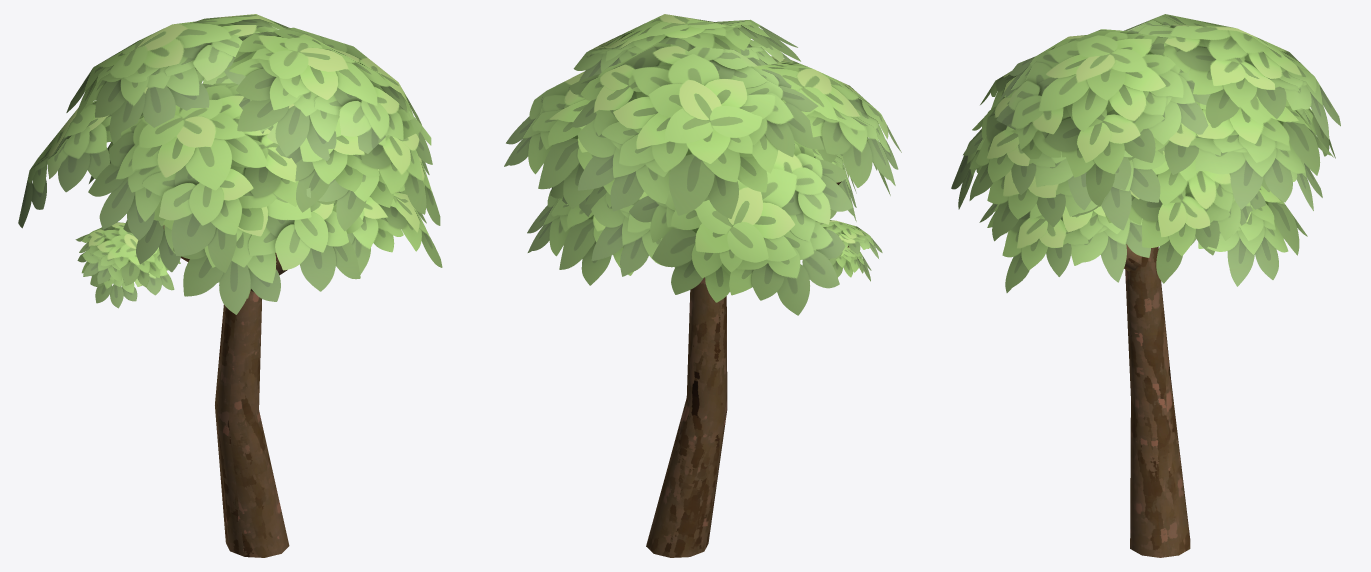
File: tree_1.gltf
3 renders of one model, left to right at view 1: azimuth 30°, elevation 25°; view 2: azimuth 150°, elevation 25°; view 3: azimuth 270°, elevation 25°, orthographic.
Parts seen in each view (by area): view 1: Tree_1; view 2: Tree_1; view 3: Tree_1.
Boxes of the visible parts, x1,y1,x2,y2 form: Tree_1: (18,14,442,557); Tree_1: (504,14,901,557); Tree_1: (951,14,1340,557).
Size of the model in its own units: 4.14 by 5.54 by 4.13.
2 materials, 2 textured.
